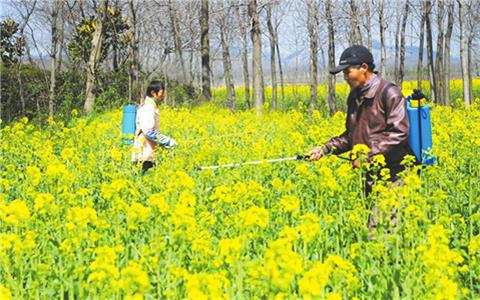berrl: (405, 94, 434, 168), (121, 103, 138, 146)
